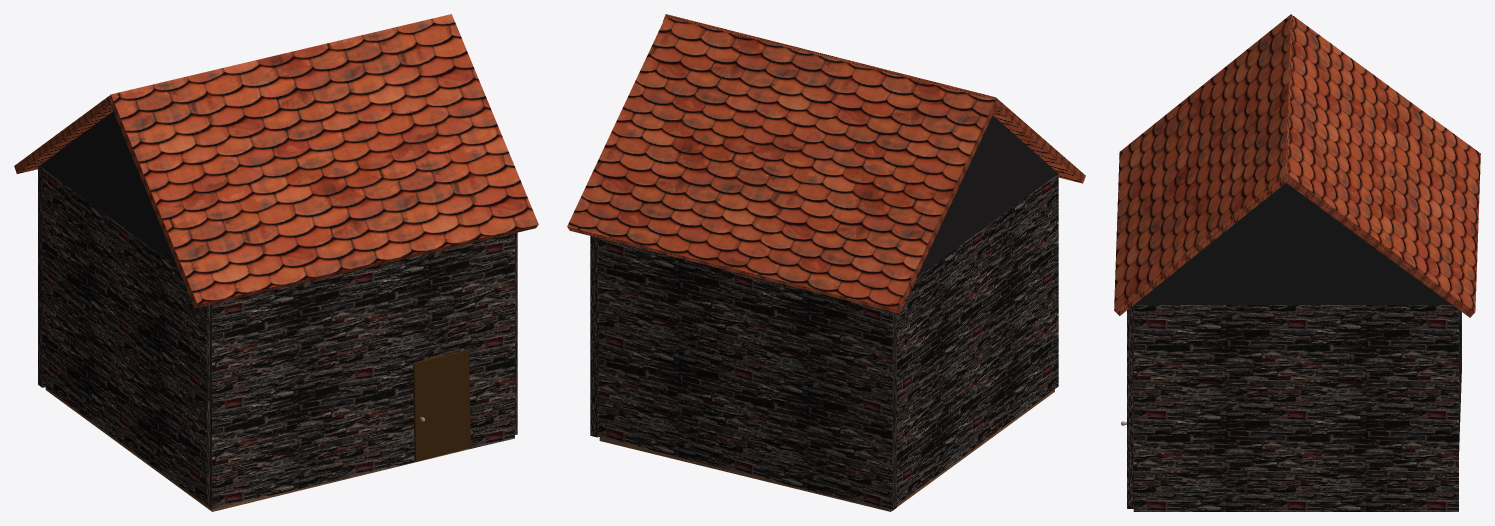
The model's file is AmiNewRoom.fbx.
3 renders of one model, left to right at view 1: azimuth 30°, elevation 25°; view 2: azimuth 150°, elevation 25°; view 3: azimuth 270°, elevation 25°, orthographic. The views are drawn at different scales.
Visible parts, largest first — view 1: pCube11, pCube15, pCube3, pCube13, pCube6, pCube10, pCube1, pCube4, pCube2; view 2: pCube10, pCube4, pCube3, pCube13, pCube11, pCube2, pCube1; view 3: pCube2, pCube10, pCube11, pCube12, pCube15.
Boxes of the visible parts, box(x1,y1,x2,y2) form: pCube11: box(110, 14, 538, 308); pCube15: box(208, 233, 514, 508); pCube3: box(42, 168, 209, 505); pCube13: box(40, 111, 177, 266); pCube6: box(413, 349, 470, 461); pCube10: box(14, 95, 112, 173); pCube1: box(45, 388, 469, 511); pCube4: box(38, 165, 44, 387); pCube2: box(515, 232, 517, 434); pCube10: box(567, 17, 997, 313); pCube4: box(598, 238, 896, 510); pCube3: box(897, 173, 1058, 504); pCube13: box(917, 115, 1057, 276); pCube11: box(663, 14, 1085, 183); pCube2: box(590, 236, 598, 437); pCube1: box(599, 389, 1054, 511); pCube2: box(1133, 305, 1458, 511); pCube10: box(1286, 16, 1480, 317); pCube11: box(1114, 14, 1293, 315); pCube12: box(1134, 183, 1451, 304); pCube15: box(1127, 305, 1133, 508).
Size of the model in its own units: 21.11 by 21.43 by 20.39.
